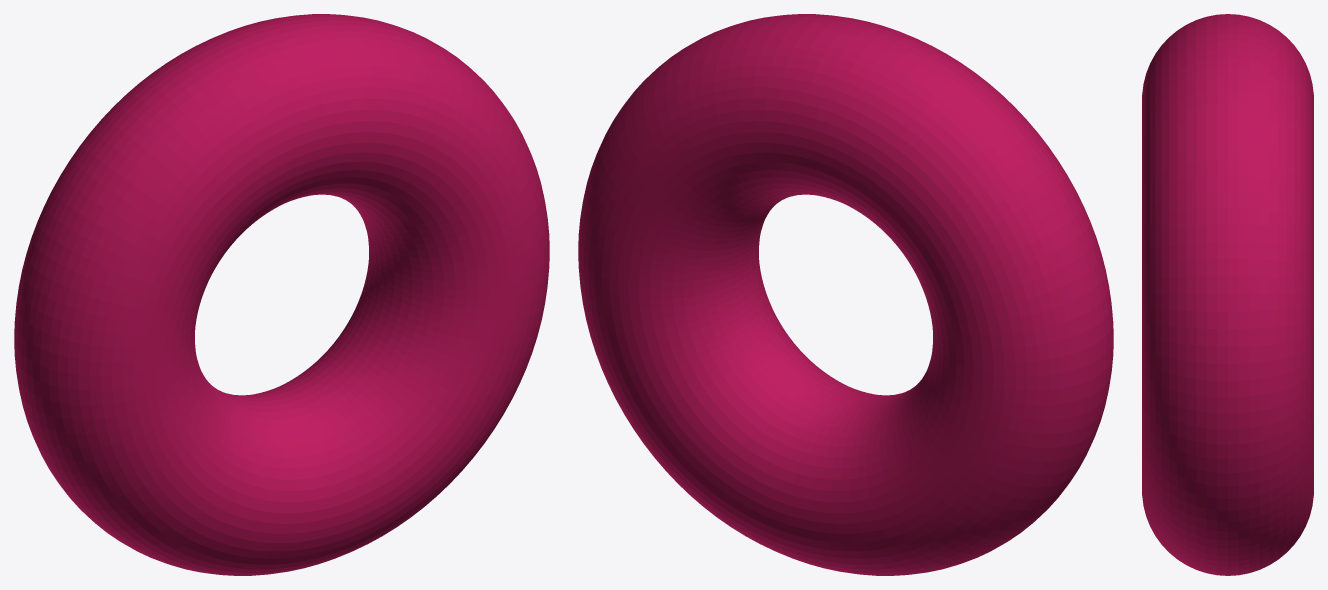
3 views of the same model, side by side, from view 1: azimuth 30°, elevation 25°; view 2: azimuth 150°, elevation 25°; view 3: azimuth 270°, elevation 25° (orthographic). The views are drawn at different scales.
Parts seen in each view (by area): view 1: world; view 2: world; view 3: world.
Boxes of the visible parts, x1,y1,x2,y2 form: world: (14,14,549,575); world: (578,14,1113,575); world: (1142,14,1313,575).
Size of the model in its own units: 32.67 by 32.67 by 9.98.
